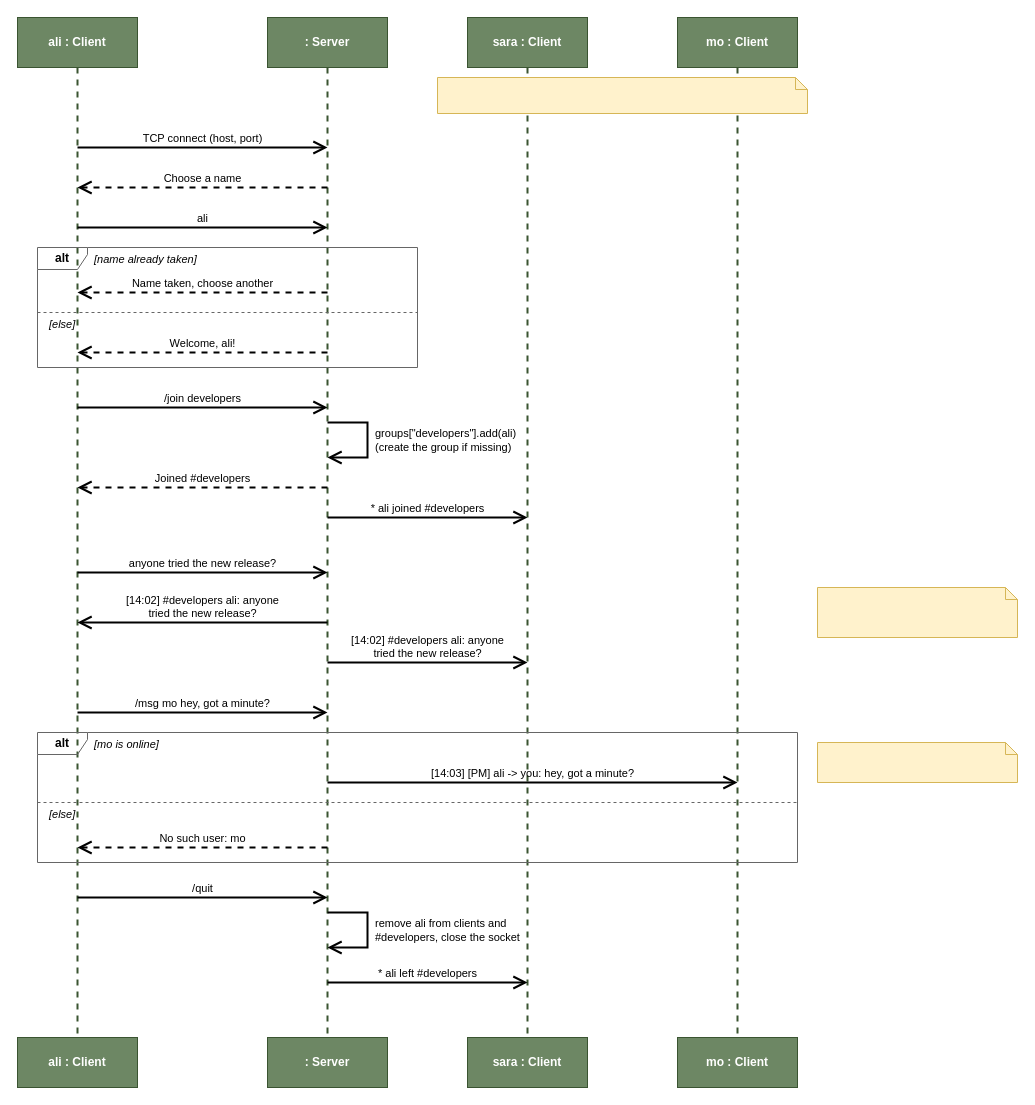
Some shapes in this 1035 by 1105 pixel diagram are drawn without their labels. Here are the shapes that lost their labels. From the top down, the box of each, then its label:
(436, 76, 808, 114): Precondition: sara and mo are already connected; sara is in #developers.
(816, 586, 1018, 638): group message: sent to every member of #developers, sender included
(816, 742, 1018, 782): private message: sent only to the target user
